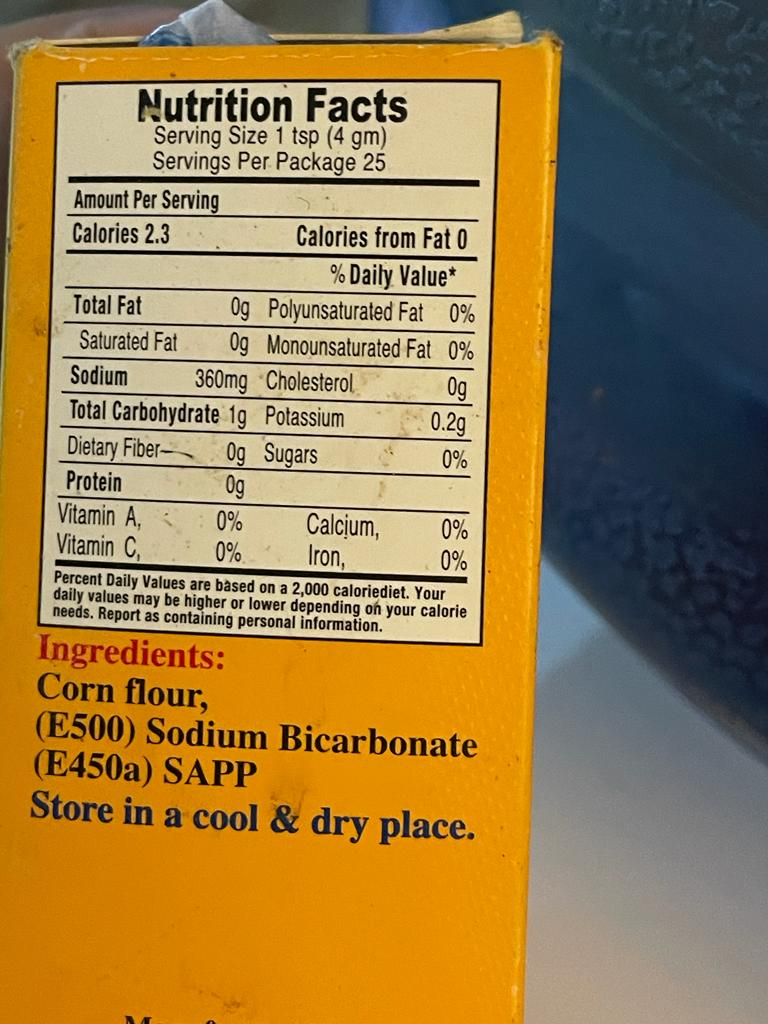table: (34, 68, 495, 647)
